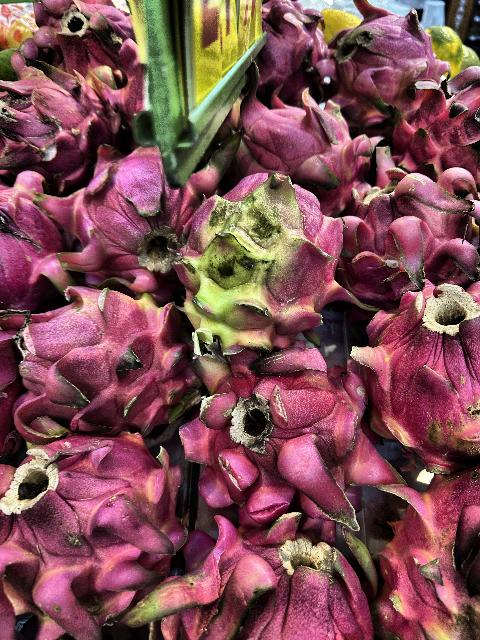buah-naga-belum-matang: (186, 166, 348, 344)
buah-naga-matang: (180, 343, 392, 519), (0, 428, 190, 620), (0, 286, 202, 428), (162, 520, 378, 640), (360, 273, 480, 469), (234, 60, 374, 216), (48, 140, 196, 286), (366, 462, 480, 636), (342, 160, 480, 298), (0, 56, 108, 174), (384, 60, 480, 184), (331, 0, 433, 112), (1, 174, 66, 314), (19, 1, 137, 74), (252, 0, 338, 96)
